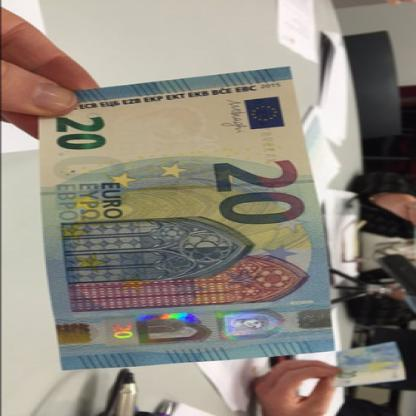euro_banknote: (39, 84, 326, 363)
